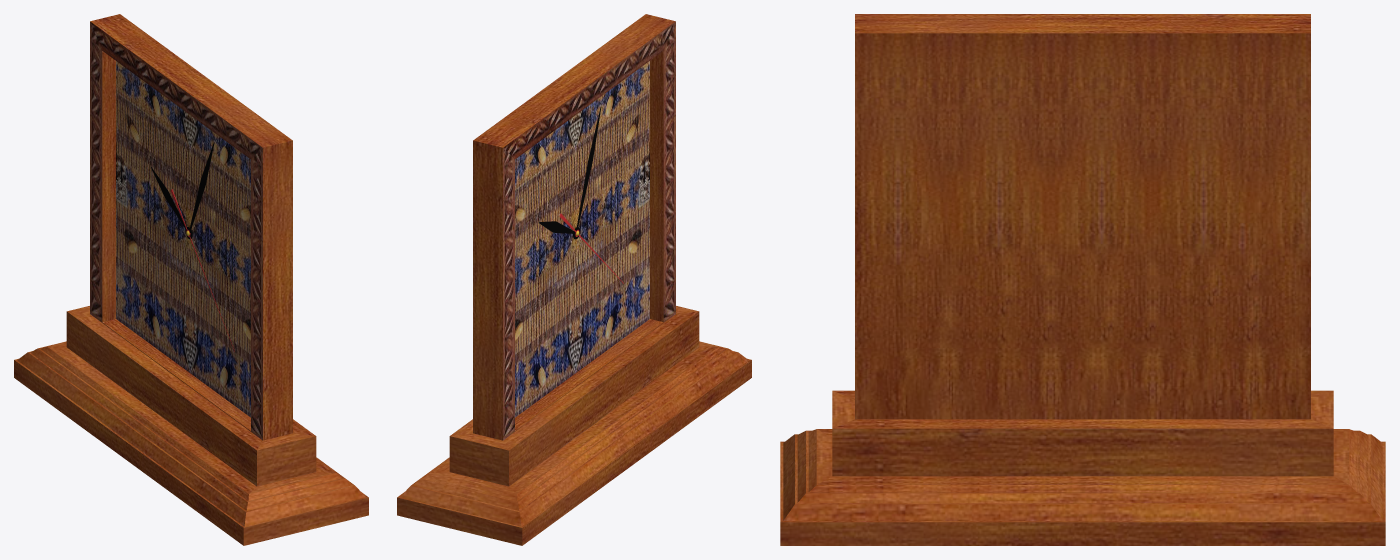
File: 16table-watch.glb
3 renders of one model, left to right at view 1: azimuth 30°, elevation 25°; view 2: azimuth 150°, elevation 25°; view 3: azimuth 270°, elevation 25°, orthographic. The views are drawn at different scales.
Parts seen in each view (by area): view 1: table watch; view 2: table watch; view 3: table watch.
Boxes of the visible parts, <box> form: table watch: <box>14,14,368,545</box>; table watch: <box>397,14,751,545</box>; table watch: <box>780,14,1385,545</box>.
Size of the model in its own units: 0.7269 by 2.03 by 2.31.
4 materials, 1 textured.
